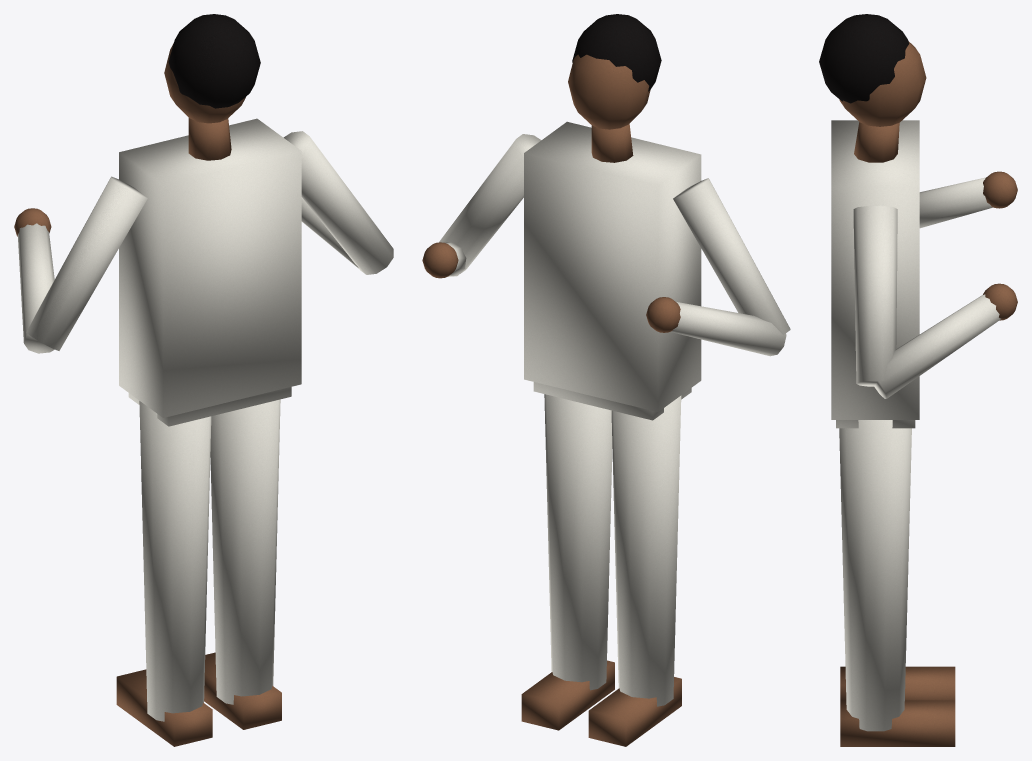
File: musico_platillos.obj
3 renders of one model, left to right at view 1: azimuth 30°, elevation 25°; view 2: azimuth 150°, elevation 25°; view 3: azimuth 270°, elevation 25°, orthographic. The views are drawn at different scales.
Visible parts, largest first — view 1: musico_platillos; view 2: musico_platillos; view 3: musico_platillos.
Part boxes in pixels (left/top/right/bottom): musico_platillos: left=14, top=14, right=393, bottom=746; musico_platillos: left=422, top=14, right=790, bottom=746; musico_platillos: left=819, top=14, right=1017, bottom=746.
Bounding box in the file's own units: 0.9447 × 1.76 × 0.45.
3 materials, 3 textured.
